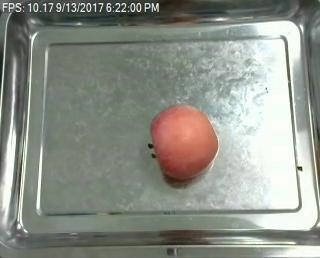apple: (148, 106, 219, 179)
